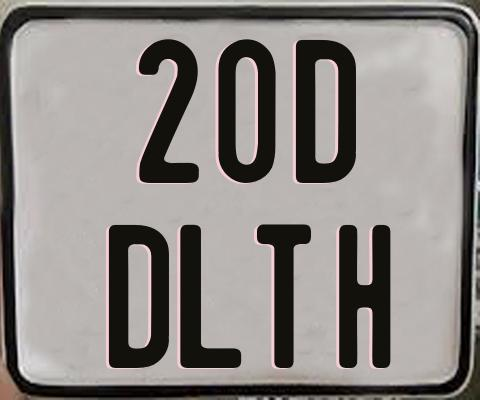0: (216, 38, 276, 182)
2: (138, 36, 204, 185)
D: (107, 225, 172, 372), (293, 39, 359, 182)
H: (336, 223, 389, 367)
L: (179, 222, 245, 370)
T: (256, 223, 313, 370)
